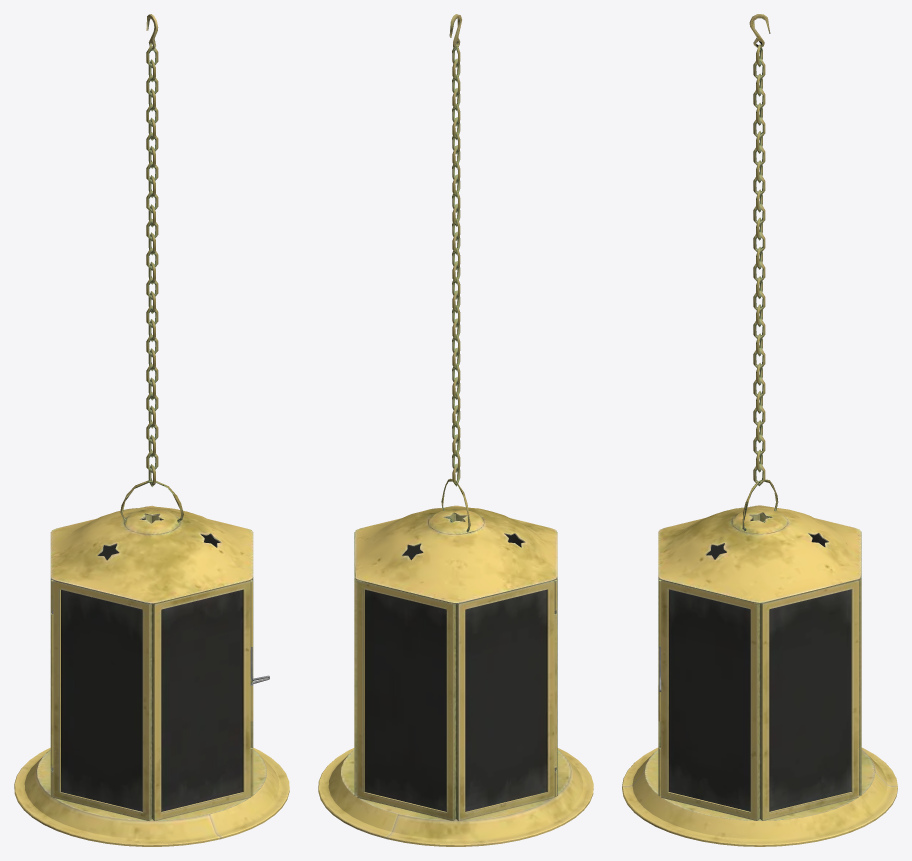
Rendered from brass_diya_lantern.glb.
3 renders of one model, left to right at view 1: azimuth 30°, elevation 25°; view 2: azimuth 150°, elevation 25°; view 3: azimuth 270°, elevation 25°, orthographic.
Parts seen in each view (by area): view 1: brass_diya_lantern, brass_diya_lantern_connection; view 2: brass_diya_lantern, brass_diya_lantern_connection; view 3: brass_diya_lantern, brass_diya_lantern_connection.
Part boxes in pixels (left/top/right/bottom): brass_diya_lantern: left=14, top=505, right=289, bottom=846; brass_diya_lantern_connection: left=120, top=14, right=183, bottom=522; brass_diya_lantern: left=318, top=505, right=593, bottom=846; brass_diya_lantern_connection: left=441, top=14, right=470, bottom=531; brass_diya_lantern: left=622, top=505, right=897, bottom=846; brass_diya_lantern_connection: left=742, top=14, right=778, bottom=530.
Size of the model in its own units: 0.123 by 0.3807 by 0.123.
3 materials, 3 textured.
